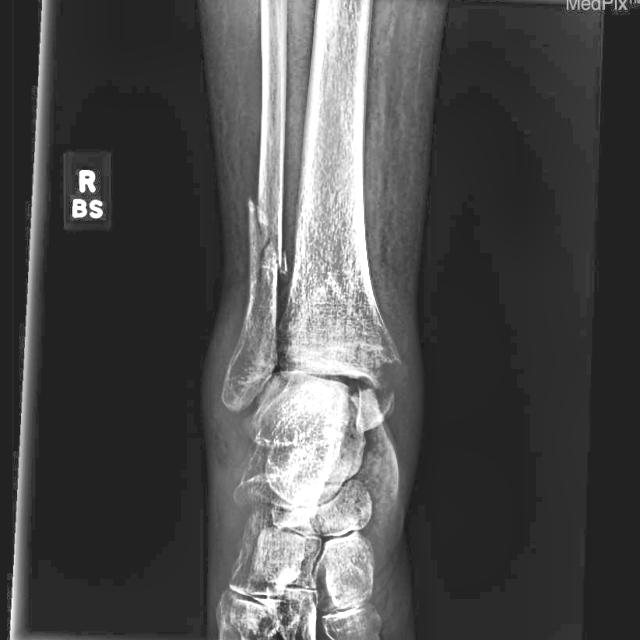line: (245, 196, 285, 286)
